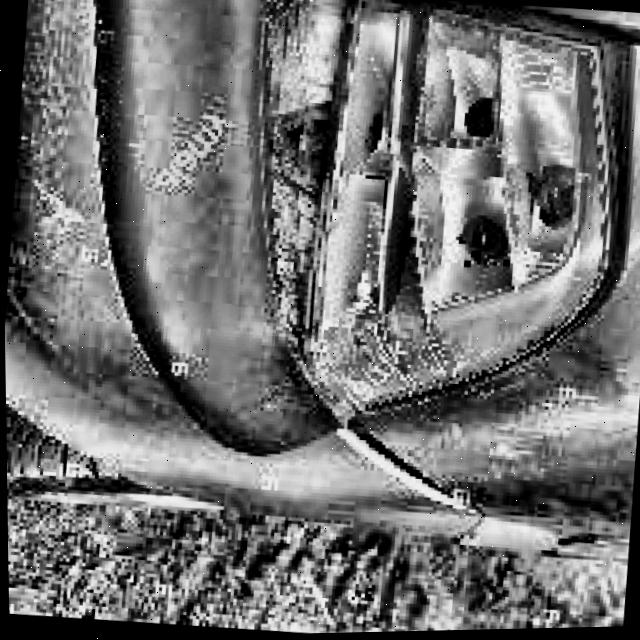tail_lamp: (227, 0, 610, 348)
